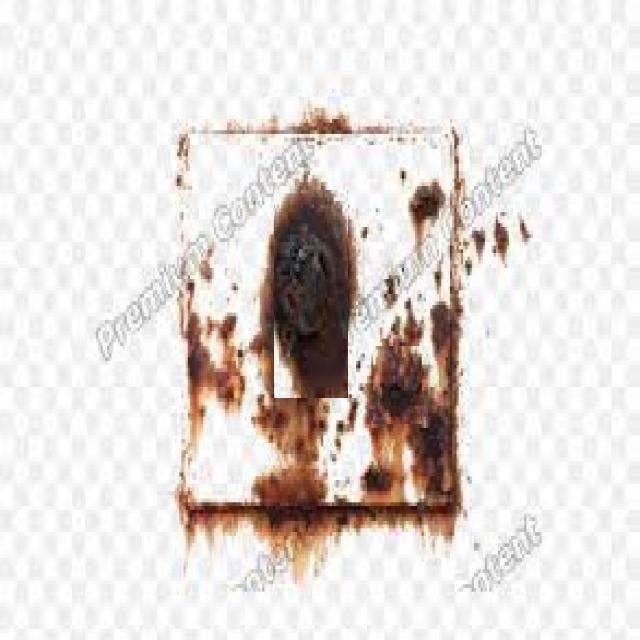Corrosion: (273, 181, 356, 398), (366, 334, 449, 476), (252, 397, 349, 468), (186, 312, 245, 419), (420, 301, 462, 414), (416, 409, 463, 508), (253, 467, 326, 507), (411, 181, 446, 230), (363, 463, 404, 504)
